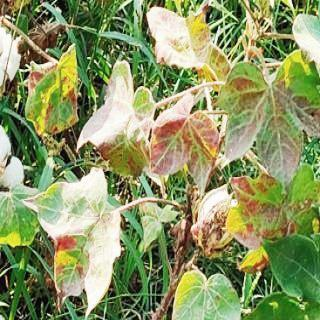blight: (21, 168, 143, 312), (151, 107, 224, 190), (225, 174, 301, 239)
